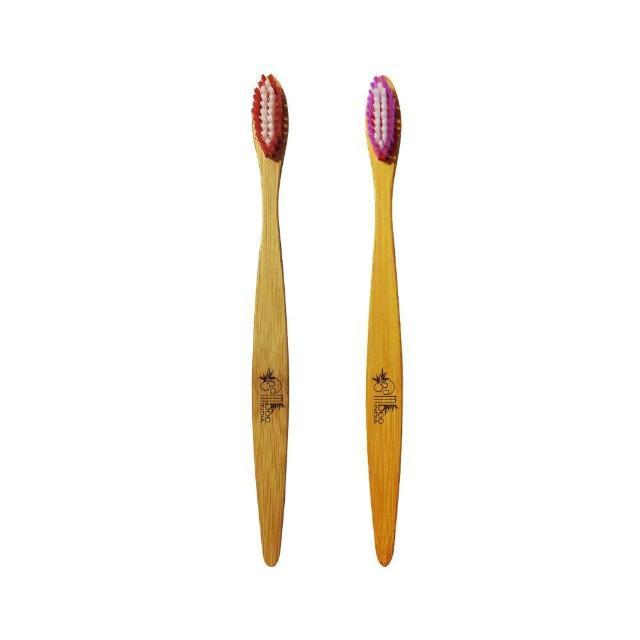toothbrush: (165, 43, 331, 590)
